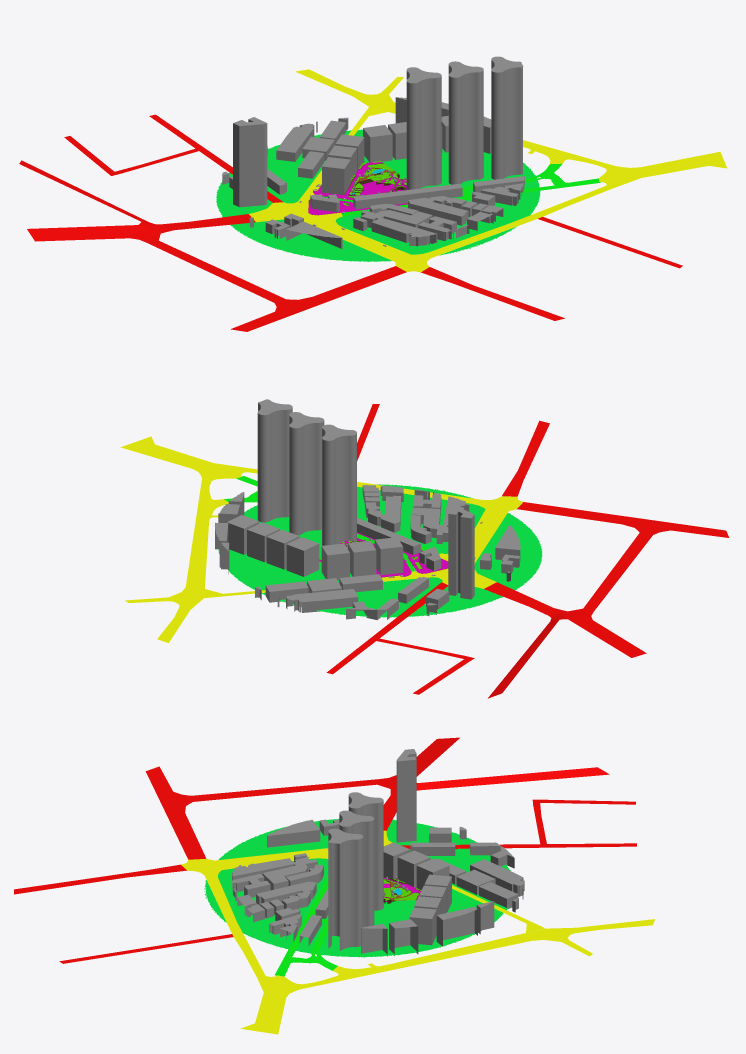
The model's file is Enviroment_2.fbx.
3 views of the same model, one above another, from view 1: azimuth 30°, elevation 25°; view 2: azimuth 150°, elevation 25°; view 3: azimuth 270°, elevation 25° (orthographic).
Visible parts, largest first — view 1: City, Road_3, circle, Road_2, tower_02, tower_03, tower_01, tower_t, Enviroment, Road_1; view 2: City, circle, Road_3, Road_2, tower_03, tower_02, tower_01, tower_t, Enviroment; view 3: City, Road_3, circle, Road_2, tower_01, tower_t, tower_02, tower_03, Road_1, Enviroment.
Boxes of the visible parts, bbox=[...] form: City: bbox=[221, 97, 524, 249]; Road_3: bbox=[19, 114, 682, 331]; circle: bbox=[216, 129, 540, 261]; Road_2: bbox=[249, 69, 727, 272]; tower_02: bbox=[448, 61, 483, 184]; tower_03: bbox=[406, 67, 441, 189]; tower_01: bbox=[491, 56, 523, 179]; tower_t: bbox=[233, 117, 267, 207]; Enviroment: bbox=[308, 161, 407, 215]; Road_1: bbox=[323, 163, 600, 216]; City: bbox=[214, 484, 520, 620]; circle: bbox=[218, 484, 542, 617]; Road_3: bbox=[326, 404, 729, 698]; Road_2: bbox=[120, 436, 522, 642]; tower_03: bbox=[322, 424, 356, 545]; tower_02: bbox=[289, 412, 324, 535]; tower_01: bbox=[257, 399, 292, 522]; tower_t: bbox=[448, 506, 474, 599]; Enviroment: bbox=[319, 532, 448, 577]; City: bbox=[231, 819, 524, 956]; Road_3: bbox=[14, 737, 636, 963]; circle: bbox=[204, 819, 510, 957]; Road_2: bbox=[181, 830, 654, 1034]; tower_01: bbox=[328, 828, 363, 950]; tower_t: bbox=[396, 749, 416, 842]; tower_02: bbox=[339, 810, 374, 927]; tower_03: bbox=[348, 792, 383, 910]; Road_1: bbox=[275, 876, 337, 976]; Enviroment: bbox=[383, 876, 421, 903].
Size of the model in its own units: 96410 by 17892 by 96649.
